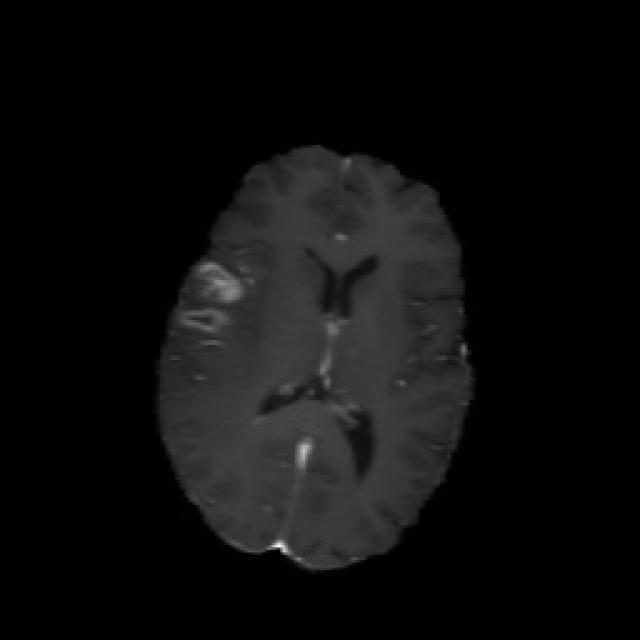negative: (200, 264, 245, 306), (182, 306, 222, 334)
